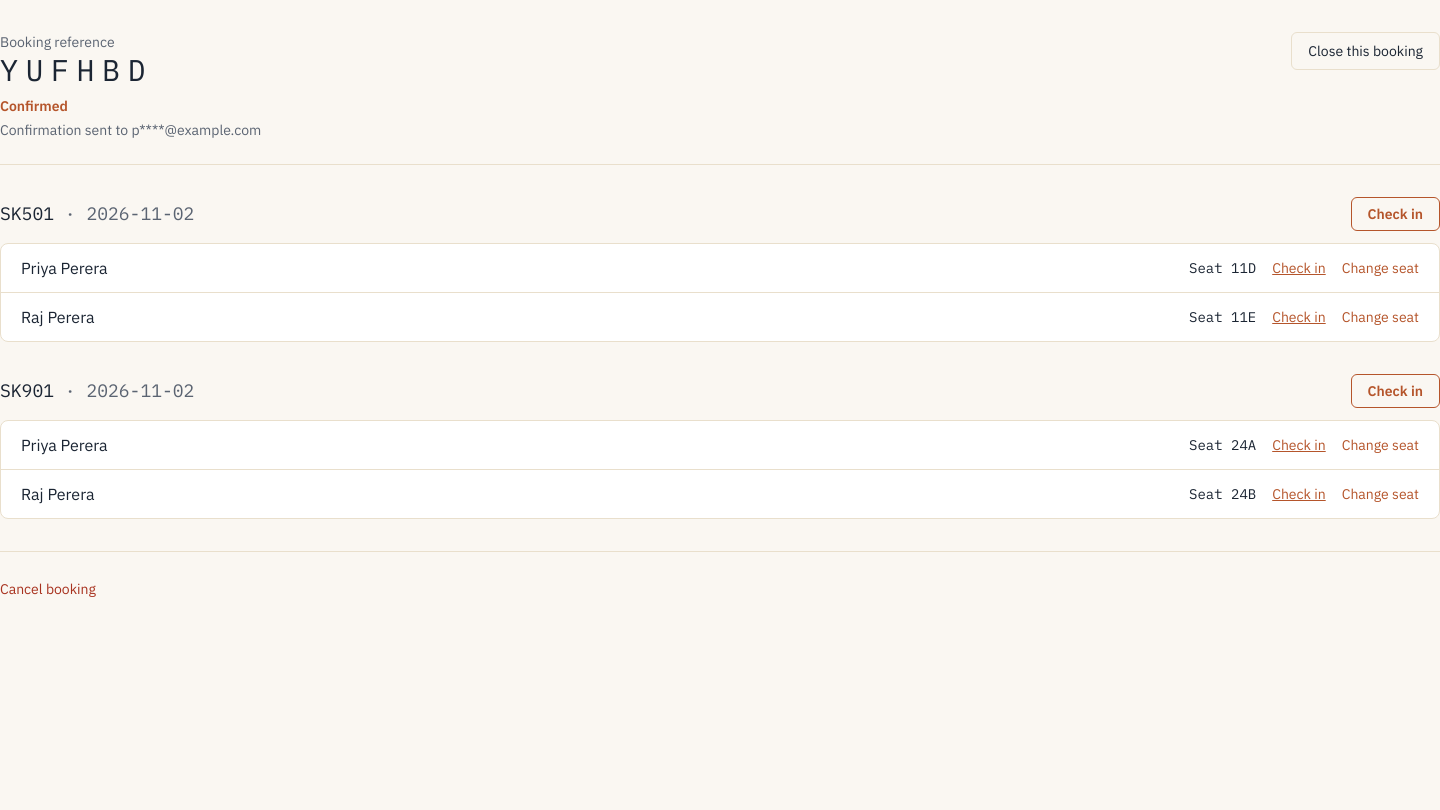
it: ManageView › cancelling › asks first, then cancels and refreshes
Click the button "Cancel booking" at [48, 589], box [0,579,96,599]
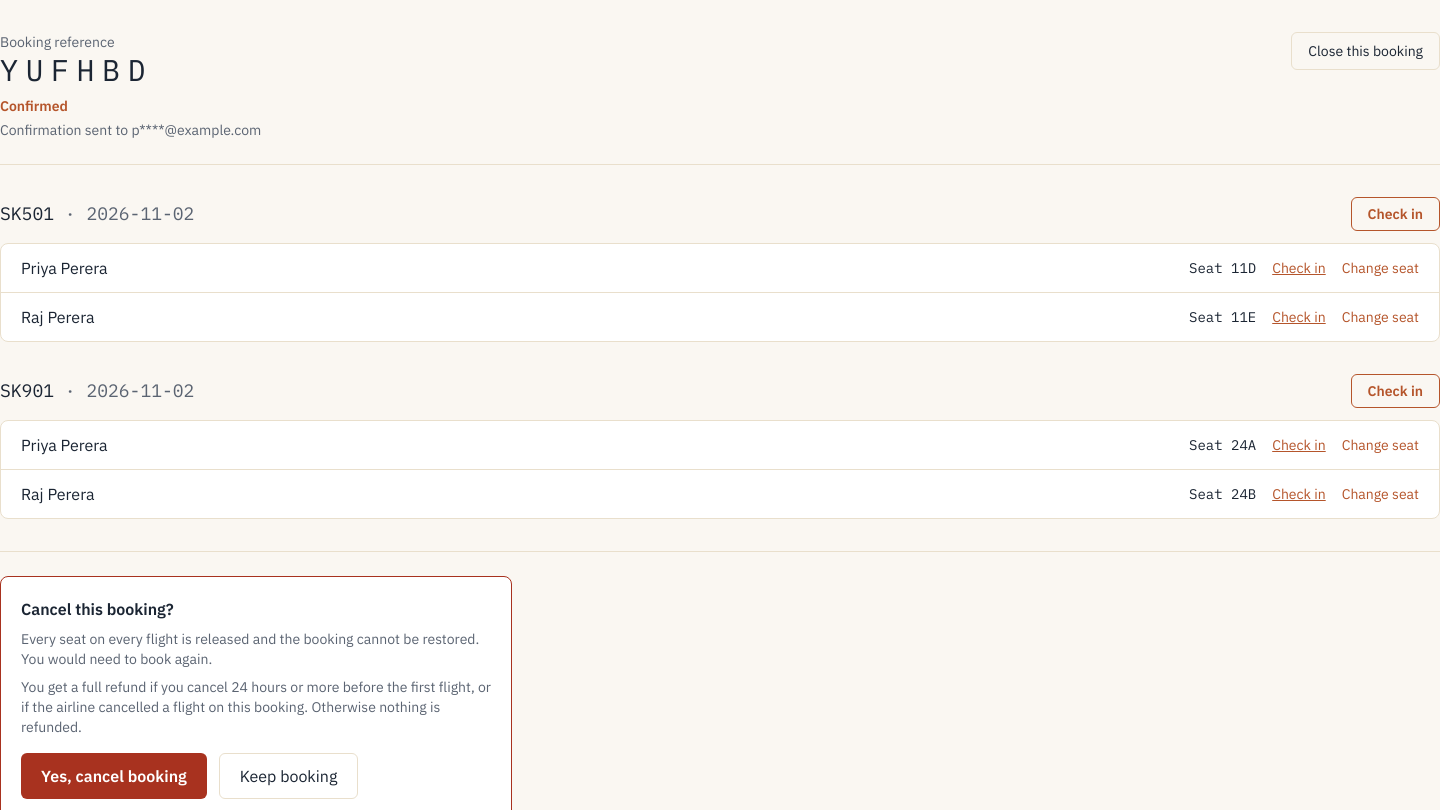
Click the button "Yes, cancel booking" at [114, 776], box [21,753,207,799]
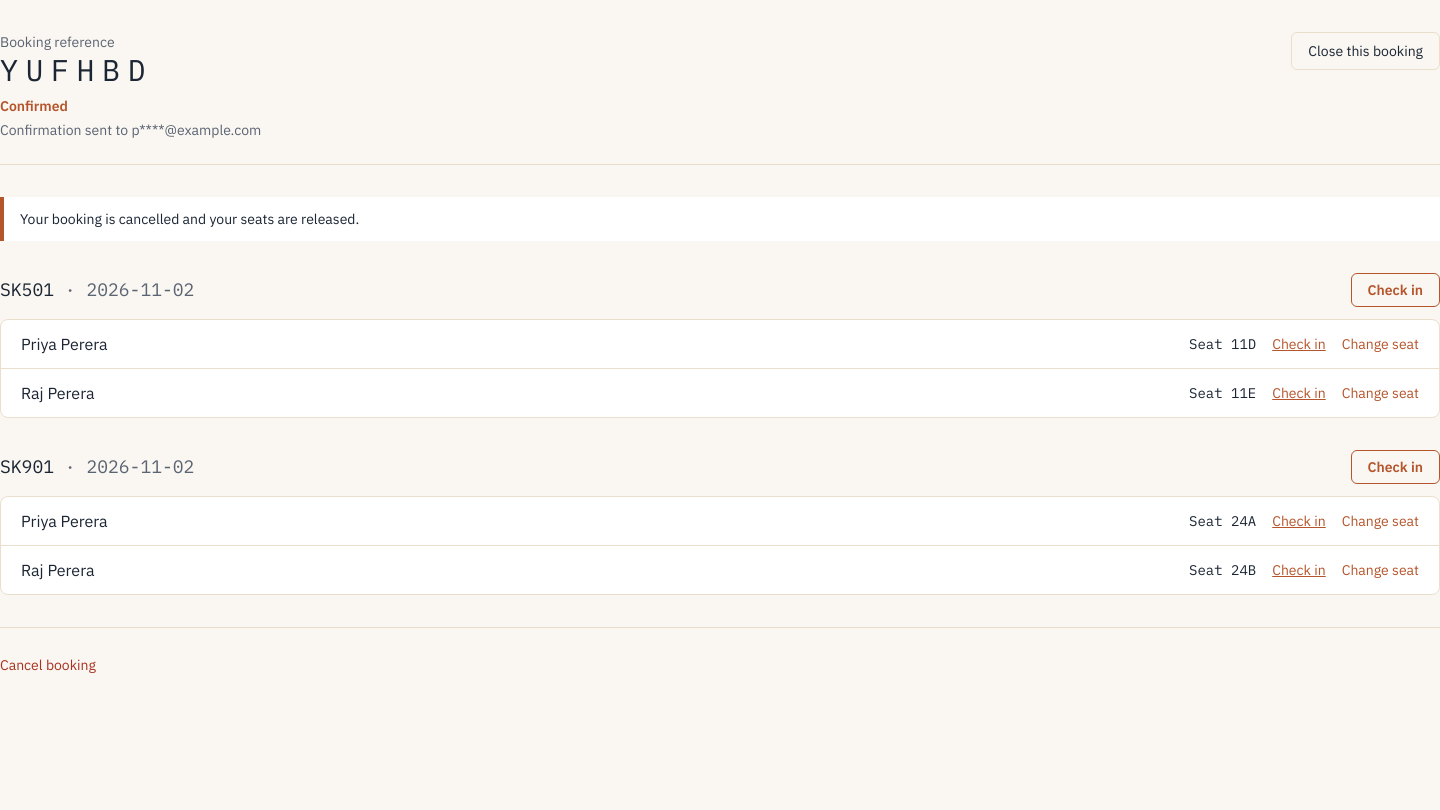
expect the message reads "Your booking is cancelled and your seats are released.": met, box [20,210,359,228]
